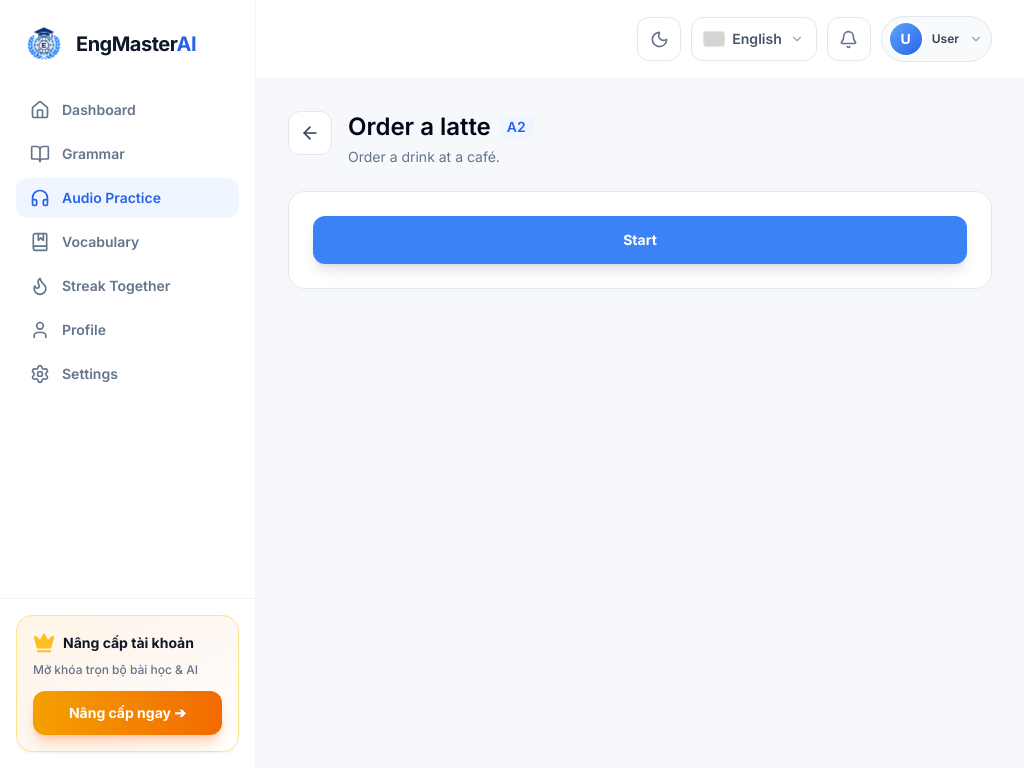
Test: SpeakingSessionPage — one full turn › a session-ending event disables the mic permanently and shows the ended message, but End session still works
Step 1. Click the button "Start" → (640, 240), box [313,216,967,264]
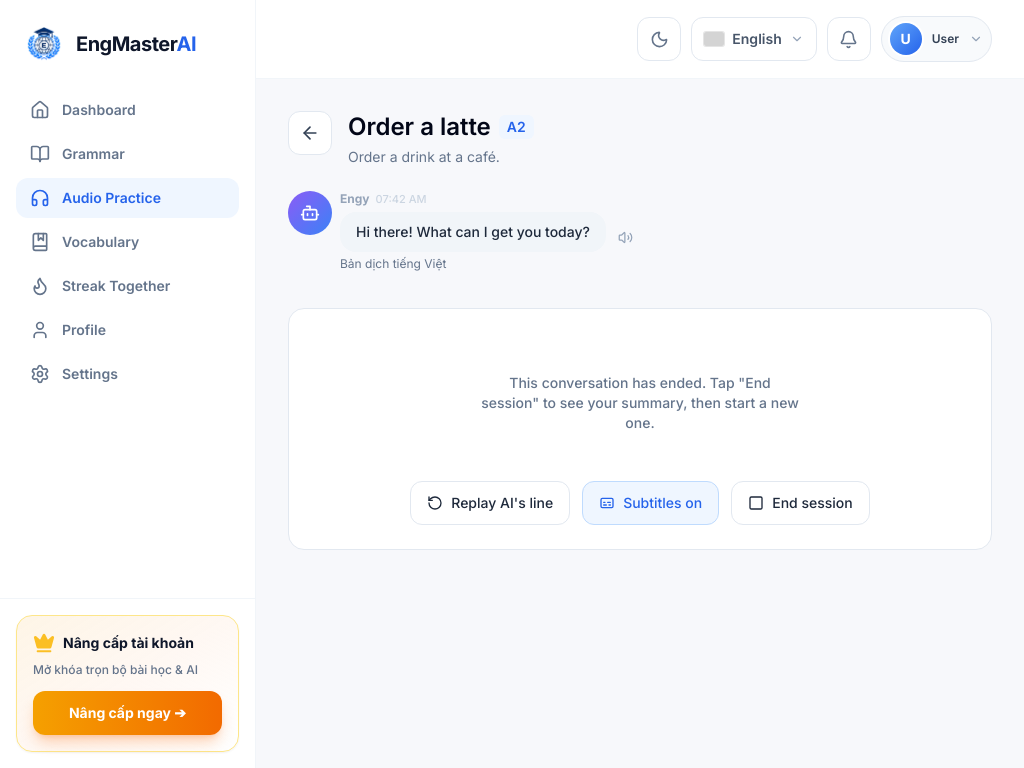
Check: the text "This conversation has ended. Tap \"End session\" to see your summary, then start a new one." is shown, box [481,374,799,430]
Check: the button "End session" is enabled, box [731,480,870,524]
